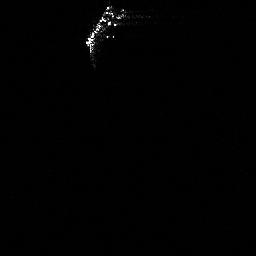ship: (85, 3, 133, 71)
